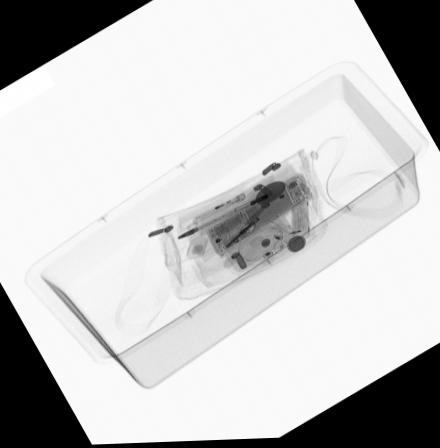Lighter: (196, 194, 246, 225)
